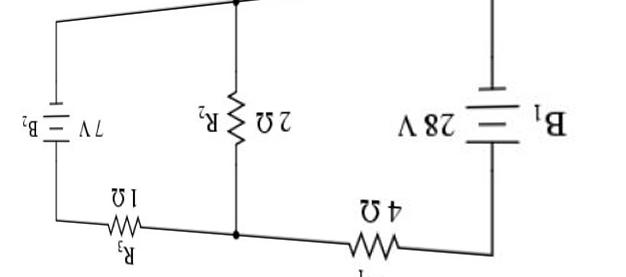resistor: (330, 219, 413, 266), (216, 68, 256, 160), (85, 205, 174, 239)
